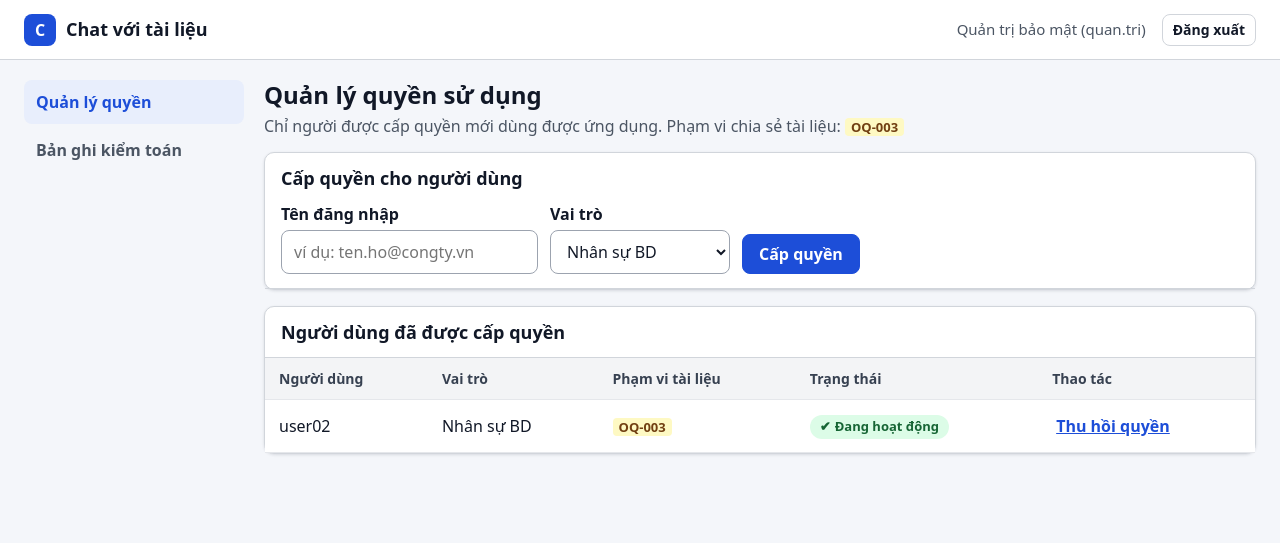
S-05 Quản lý quyền › s05-confirm: thu hồi phải qua bước xác nhận
Click the button with aria-label "Thu hồi quyền của user02".
click(1113, 426)  # box [1052,410,1174,442]
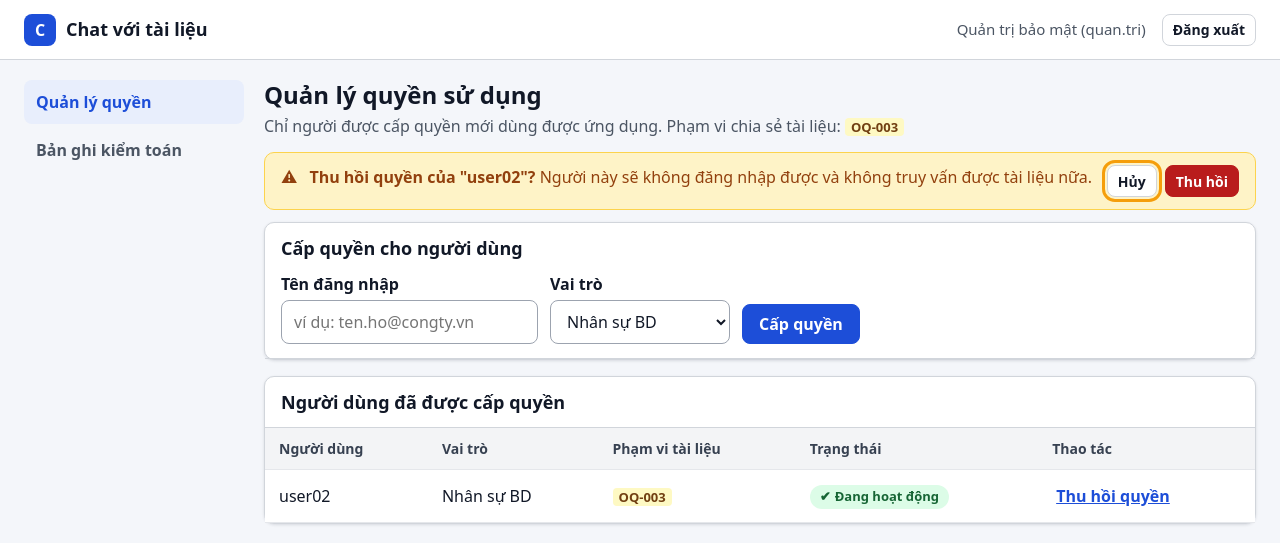
Expected: the message shows "Thu hồi quyền của \"user02\"?", [309,166,536,188]
Click the button "Hủy".
click(1132, 181)  # box [1107,165,1157,197]
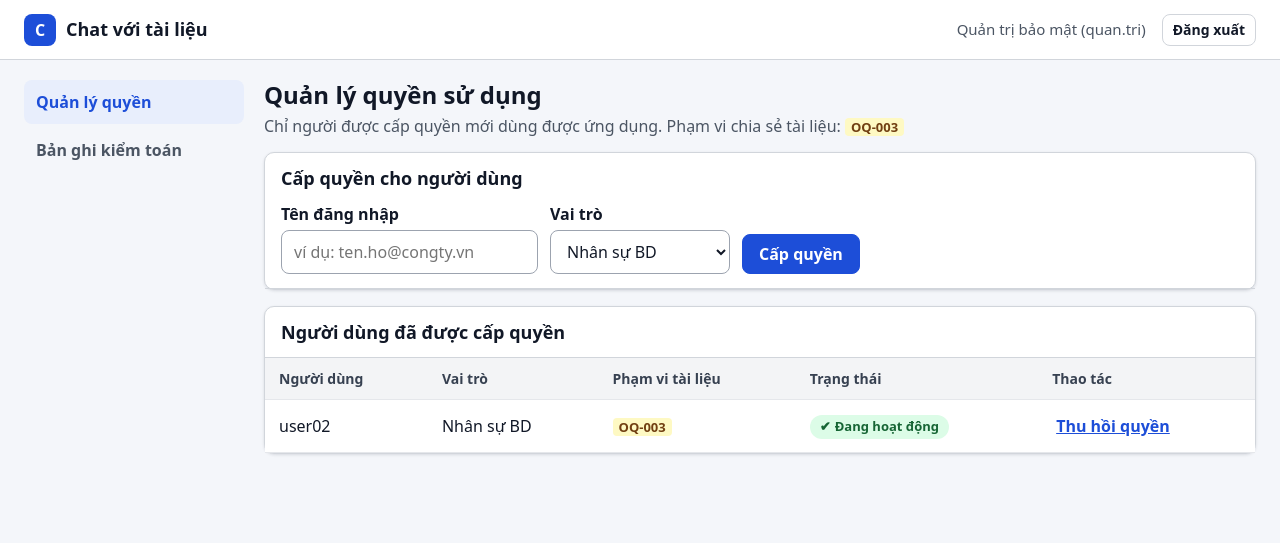
Expected: the text "Thu hồi quyền của \"user02\"?" is gone
Click the button with aria-label "Thu hồi quyền của user02".
click(1113, 426)  # box [1052,410,1174,442]
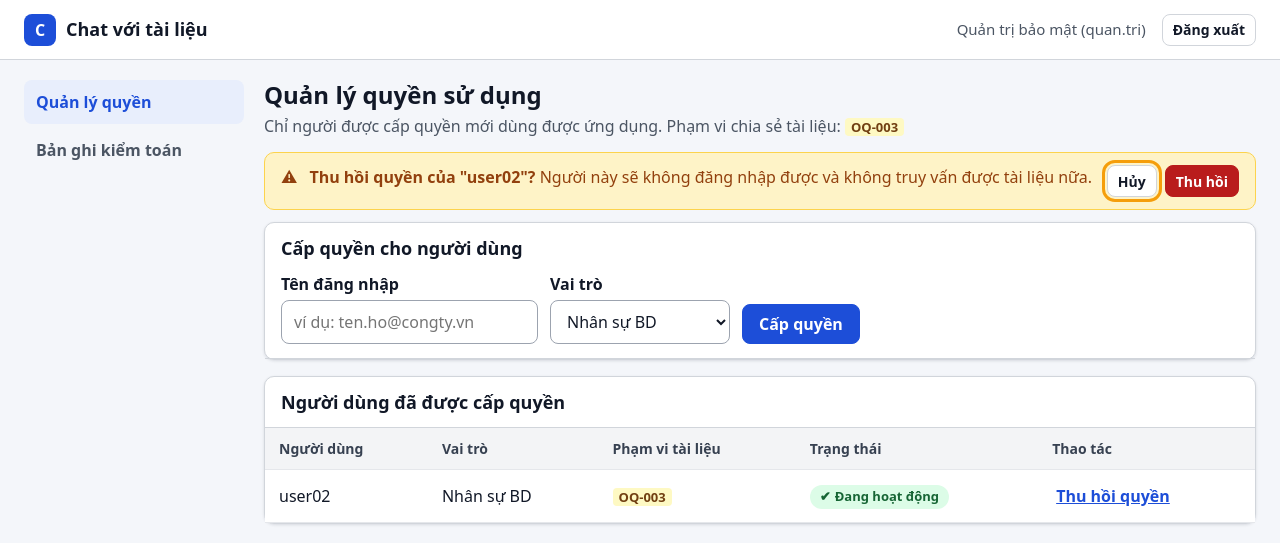
Click the button "Thu hồi".
click(1202, 181)  # box [1165,165,1239,197]
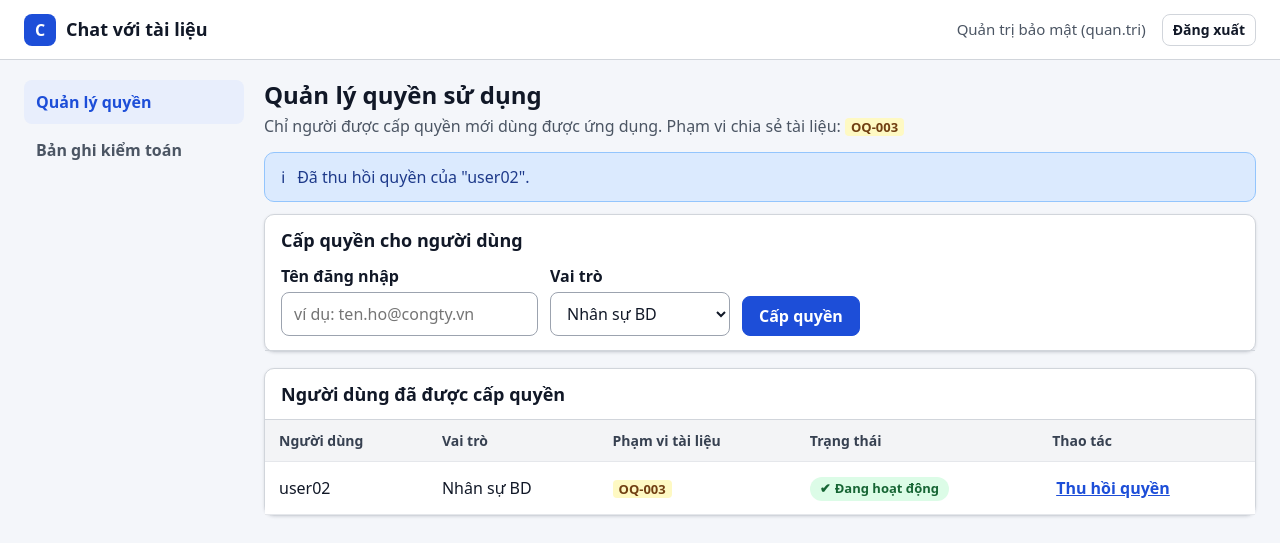
Expected: the text "Đã thu hồi quyền của \"user02\"." is shown, [297,165,530,189]
